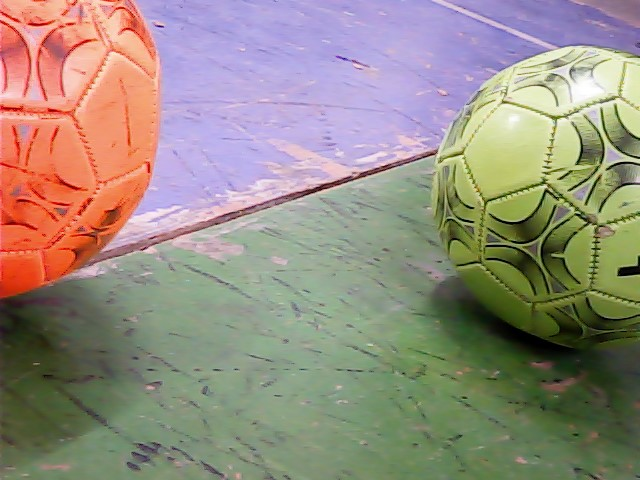Green_ball: (431, 46, 640, 362)
Orange_ball: (1, 1, 161, 307)
